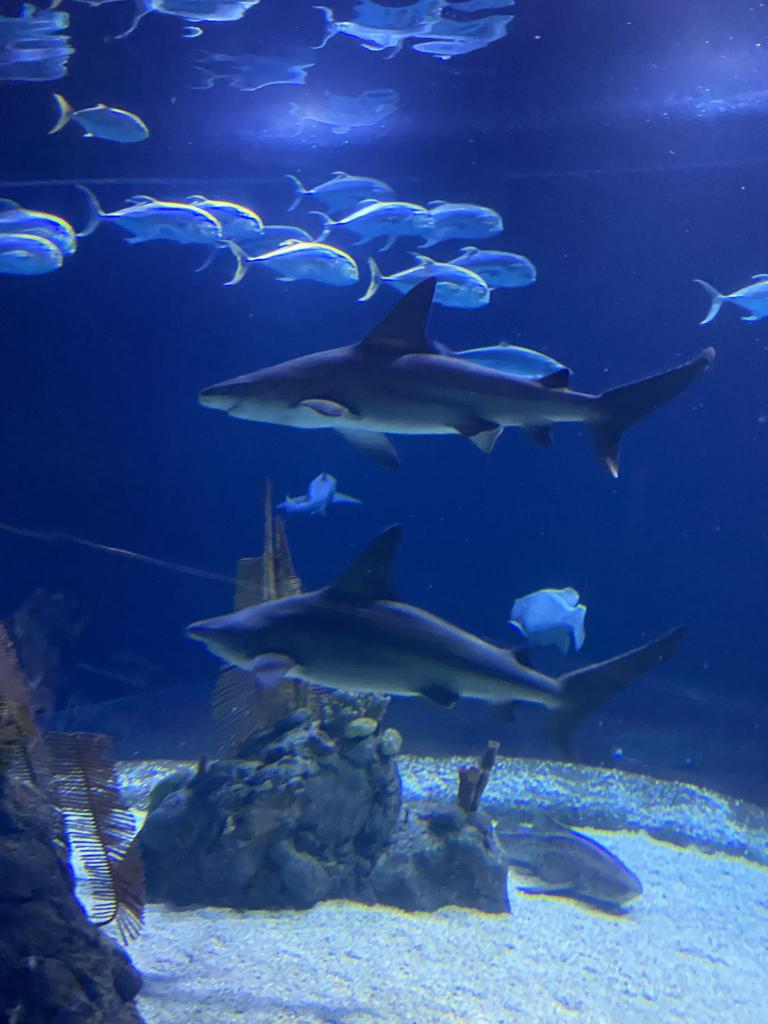Fish: (1, 173, 506, 286), (353, 247, 536, 308), (48, 94, 151, 146)
Shark: (186, 525, 680, 766), (201, 278, 708, 473)
